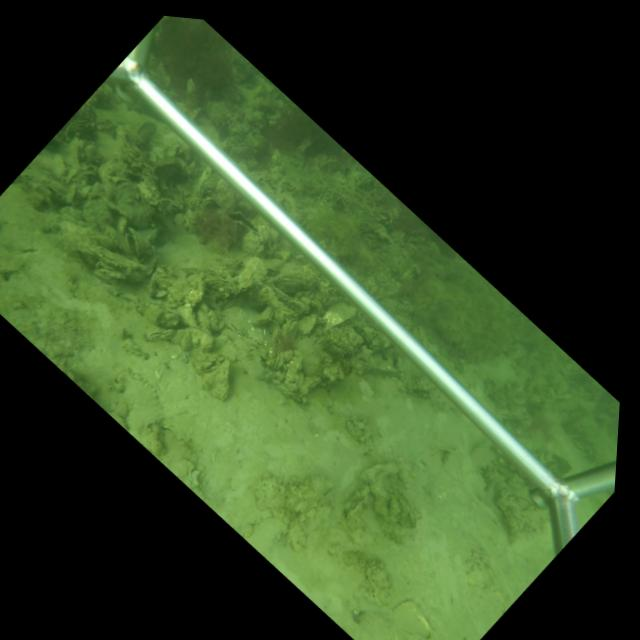Oyster-Closed: (84, 241, 139, 271), (203, 358, 232, 400), (392, 488, 418, 530), (323, 300, 356, 329), (183, 324, 215, 353), (204, 276, 238, 303), (273, 274, 306, 294), (342, 499, 364, 521), (253, 306, 274, 328), (300, 376, 321, 395), (96, 268, 126, 281), (145, 330, 177, 341)
Oyster-Indeterminate: (296, 313, 318, 337)
Oyster-Open: (225, 210, 259, 236), (123, 228, 151, 259), (202, 363, 215, 373)
